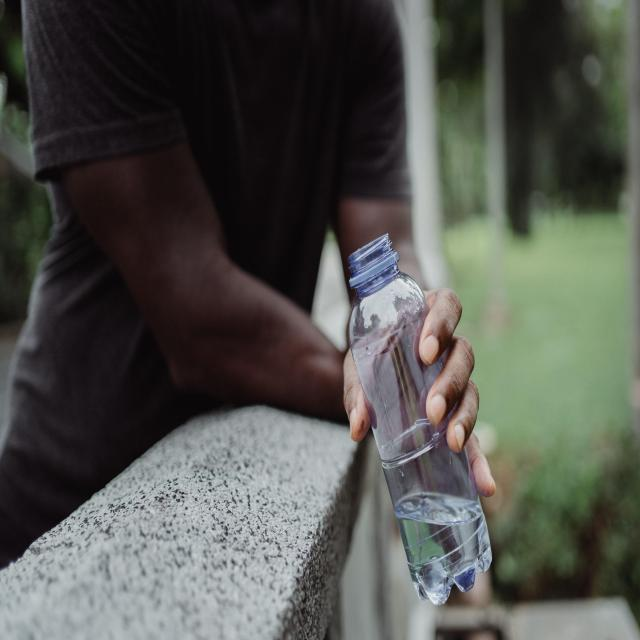bottle-plastic: (346, 231, 493, 608)
